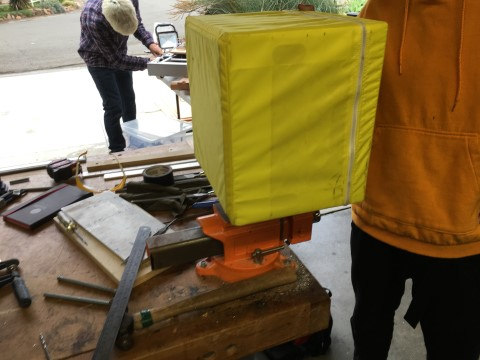cube: (184, 9, 388, 225)
